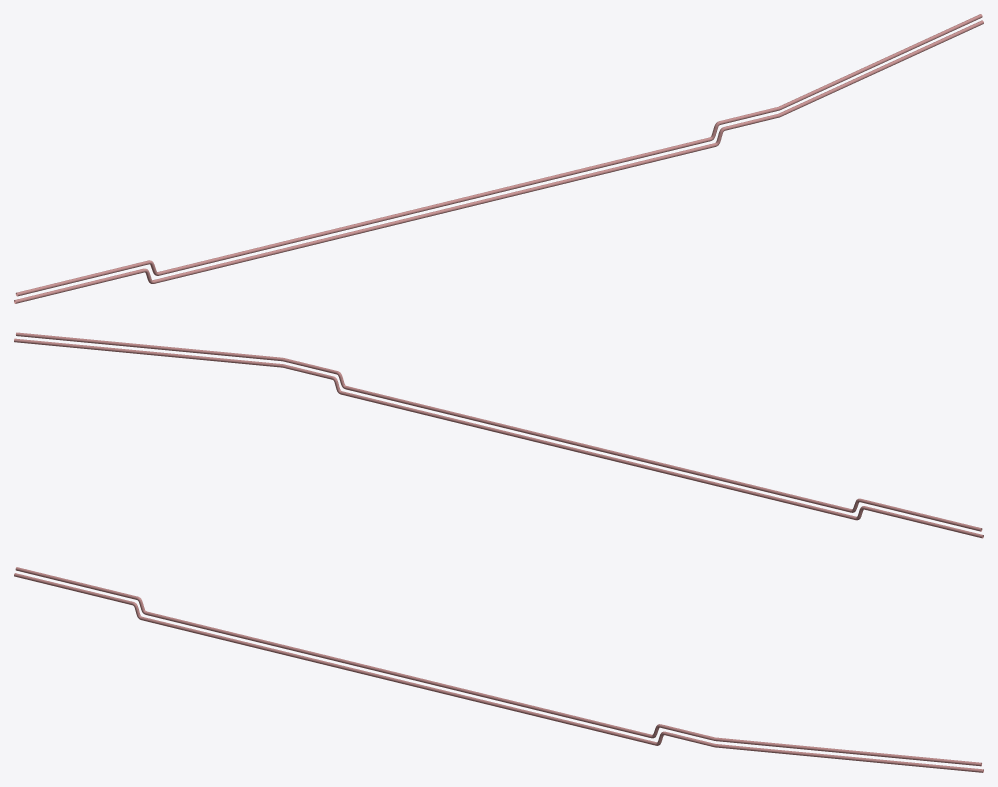
The model's file is Pipe_Horizontal_Small_R.fbx.
3 renders of one model, top to bottom at view 1: azimuth 30°, elevation 25°; view 2: azimuth 150°, elevation 25°; view 3: azimuth 330°, elevation 25°, orthographic. The views are drawn at different scales.
Visible parts, largest first — view 1: Pipe_Horizontal_Small_R; view 2: Pipe_Horizontal_Small_R; view 3: Pipe_Horizontal_Small_R.
Part boxes in pixels (left/top/right/bottom): Pipe_Horizontal_Small_R: left=14, top=14, right=983, bottom=303; Pipe_Horizontal_Small_R: left=14, top=332, right=983, bottom=538; Pipe_Horizontal_Small_R: left=14, top=567, right=983, bottom=772.
Bounding box in the file's own units: 2275 × 52.37 × 182.
